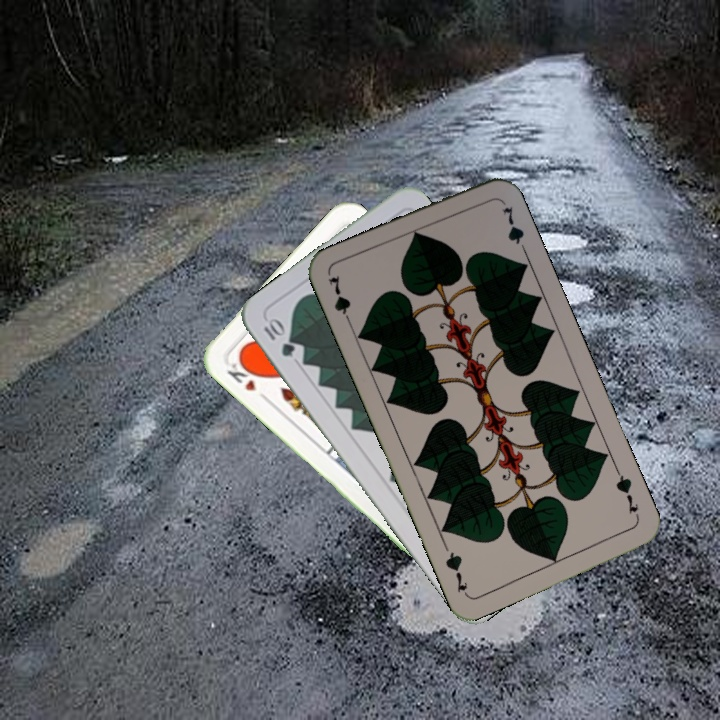G10: (259, 314, 298, 360)
G7: (324, 271, 355, 329), (611, 466, 642, 522)
HK: (223, 355, 271, 404)
